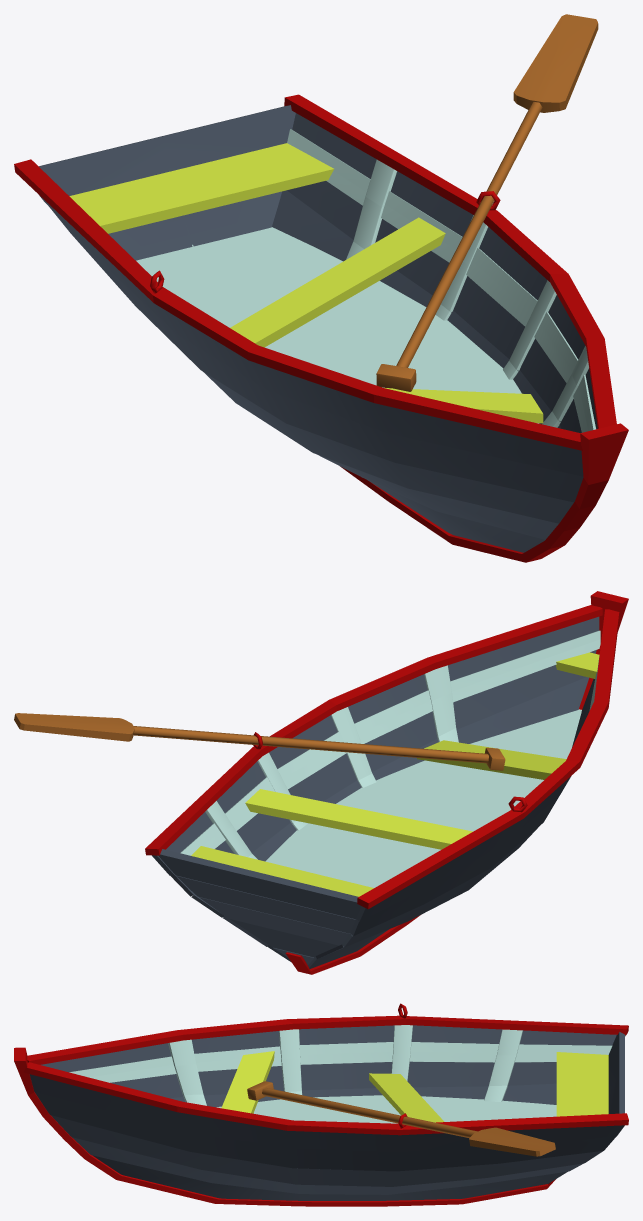
The model's file is le boat low.FBX.
3 views of the same model, one above another, from view 1: azimuth 30°, elevation 25°; view 2: azimuth 150°, elevation 25°; view 3: azimuth 270°, elevation 25° (orthographic). The views are drawn at different scales.
Visible parts, largest first — view 1: ok ok 008, structure interieur001, Carcasse metal001, siege001, rame004; view 2: ok ok 008, structure interieur001, Carcasse metal001, siege001, rame004; view 3: ok ok 008, Carcasse metal001, structure interieur001, siege001, rame004.
Boxes of the visible parts, <box> form: ok ok 008: <box>39,105,597,552</box>; structure interieur001: <box>136,129,595,432</box>; Carcasse metal001: <box>14,94,628,562</box>; siege001: <box>69,143,543,423</box>; rame004: <box>376,14,598,391</box>; ok ok 008: <box>152,616,599,968</box>; structure interieur001: <box>180,630,600,887</box>; Carcasse metal001: <box>145,591,628,974</box>; siege001: <box>191,652,599,896</box>; rame004: <box>14,713,505,770</box>; ok ok 008: <box>29,1025,625,1200</box>; Carcasse metal001: <box>14,1003,628,1206</box>; structure interieur001: <box>69,1025,612,1123</box>; siege001: <box>221,1051,608,1122</box>; rame004: <box>247,1081,555,1156</box>.
Size of the model in its own units: 206 by 93.67 by 294.
